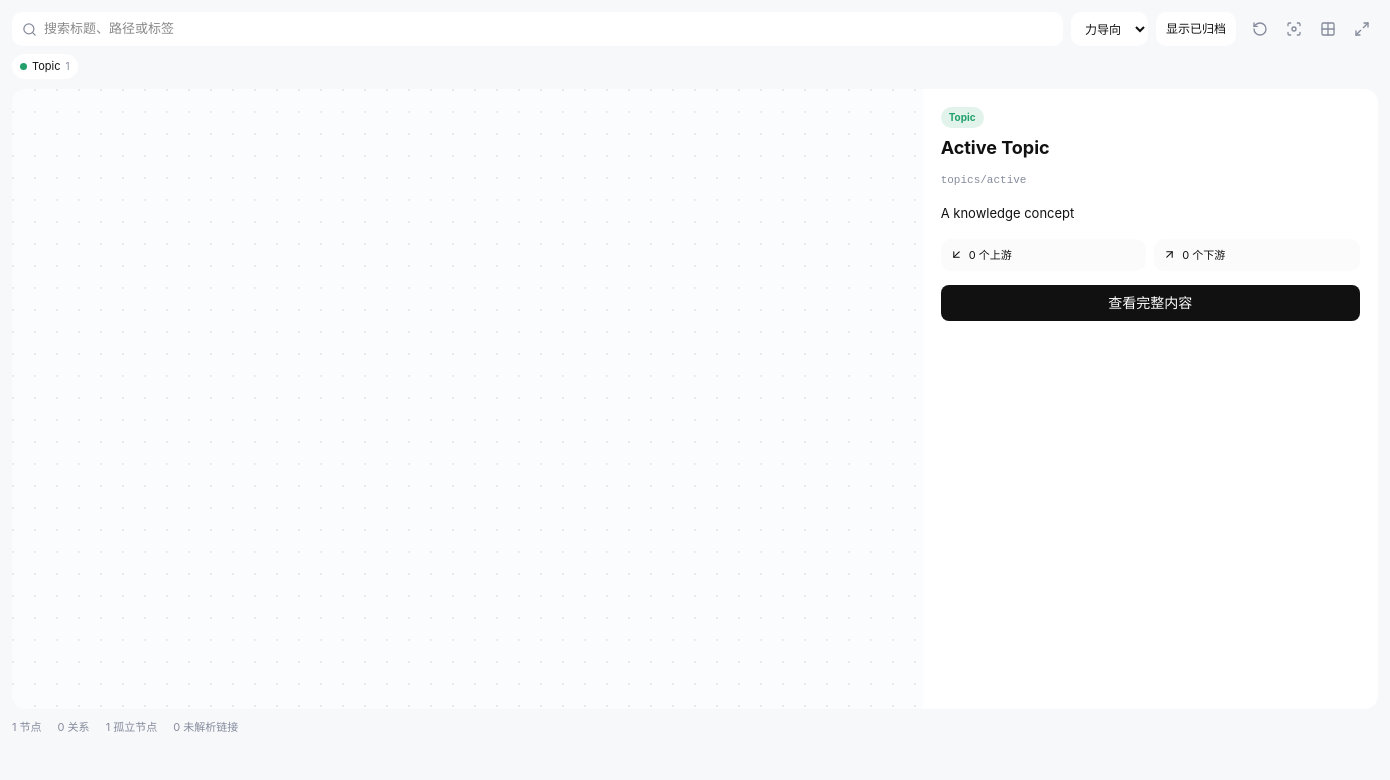
Scenario: KnowledgeGraphVisualization › shows active concepts by default and reveals archived concepts on request
Expected: the element named "知识图谱统计" shows "1", [12,720,42,734]
Click the button "显示已归档" at (1196, 29), box [1156,12,1236,46]
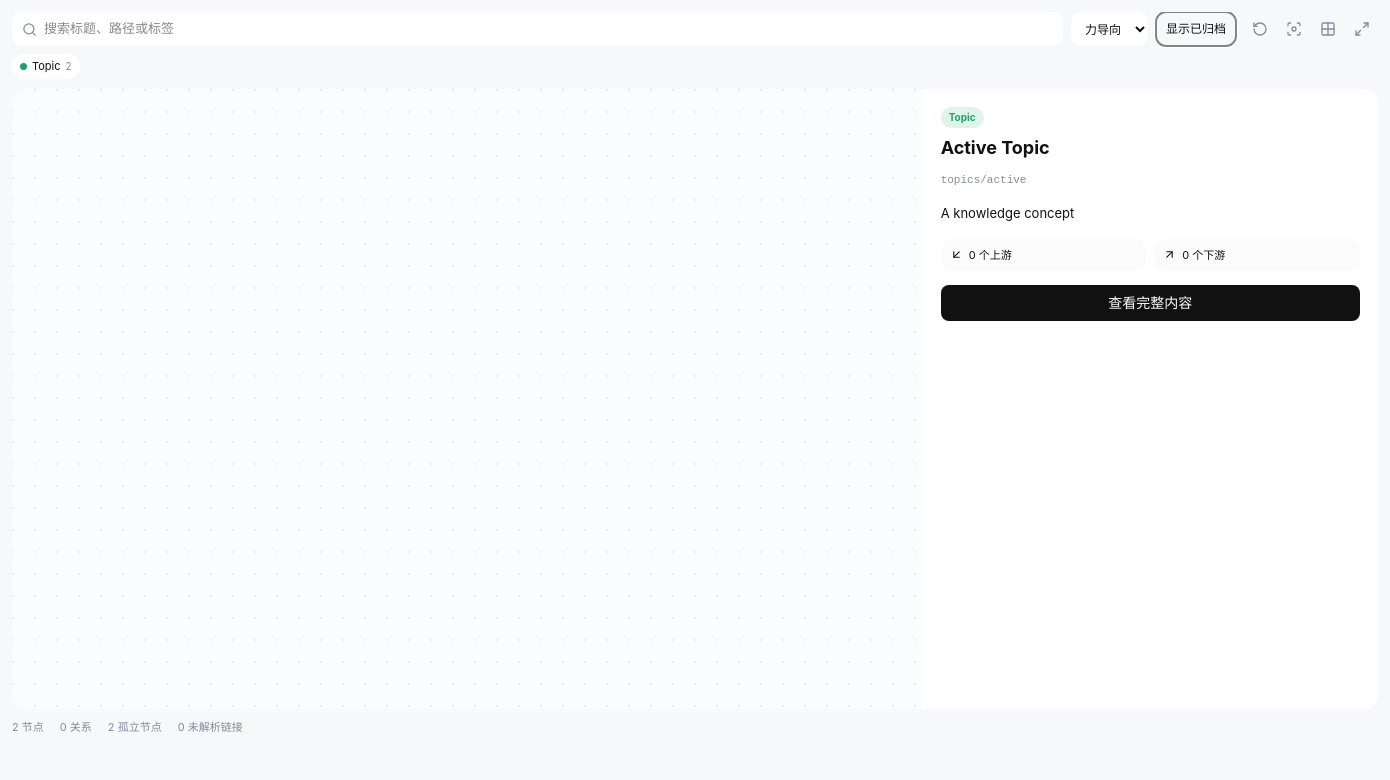
Expected: the element named "知识图谱统计" shows "2", [12,720,44,734]
